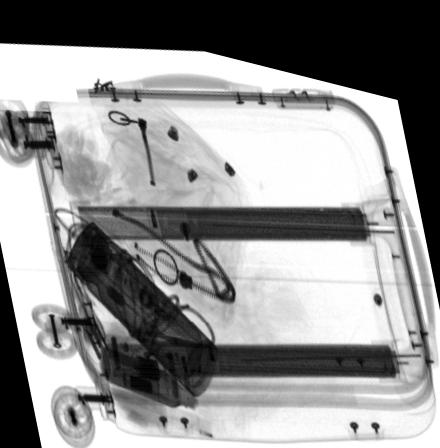Scissors: (125, 300, 216, 359)
